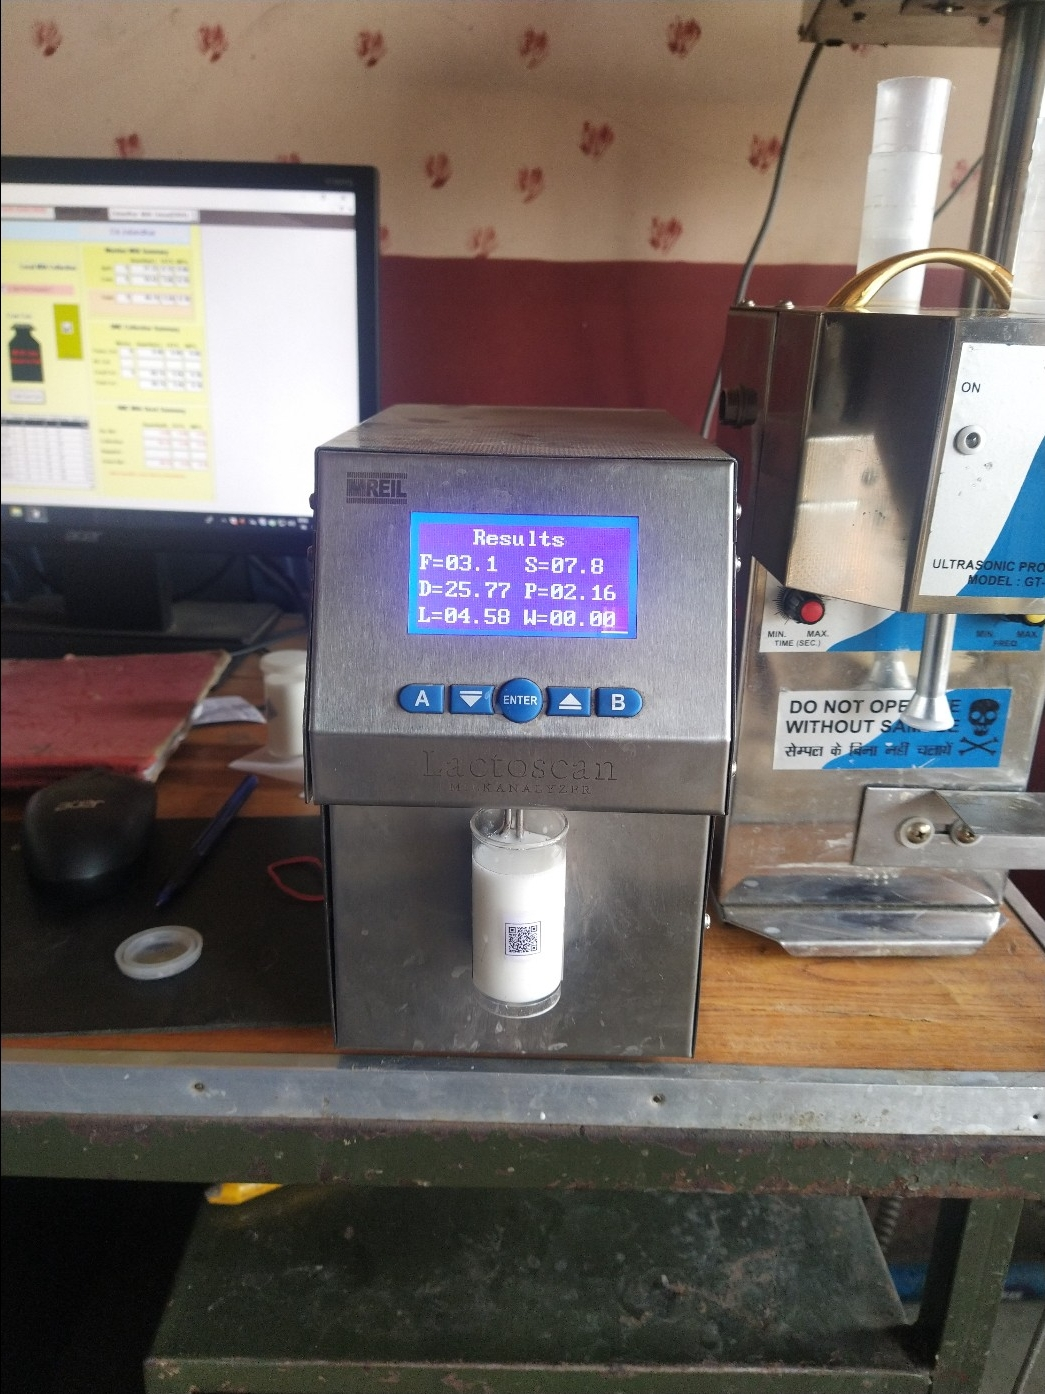lcd: (398, 509, 664, 656)
qr: (487, 913, 544, 964)
